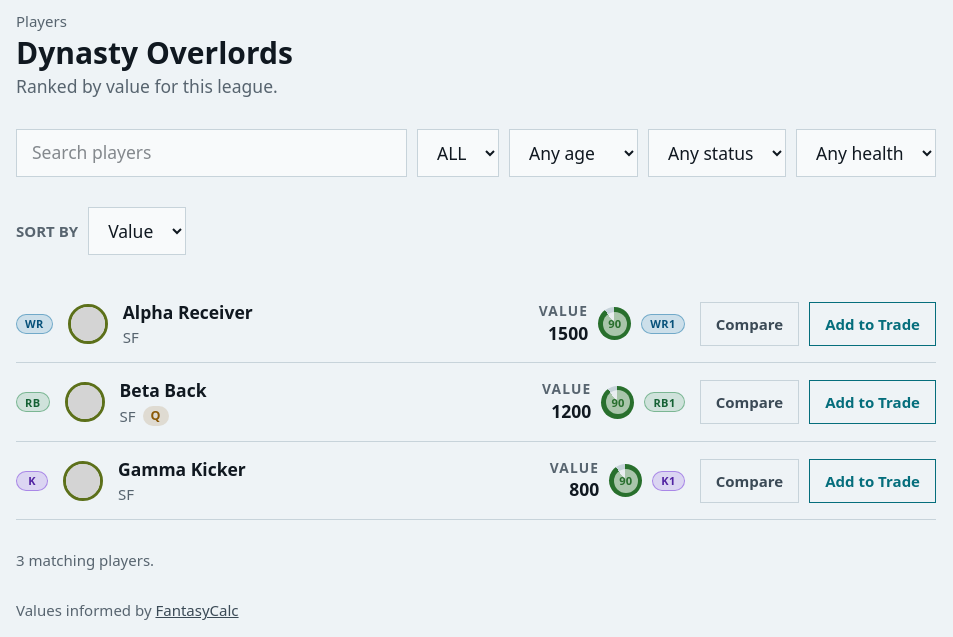
Test: PlayersContent › filters by position
Select "K" in the 1st dropdown at (458, 153), box top-left (417, 129), bottom-right (499, 177)
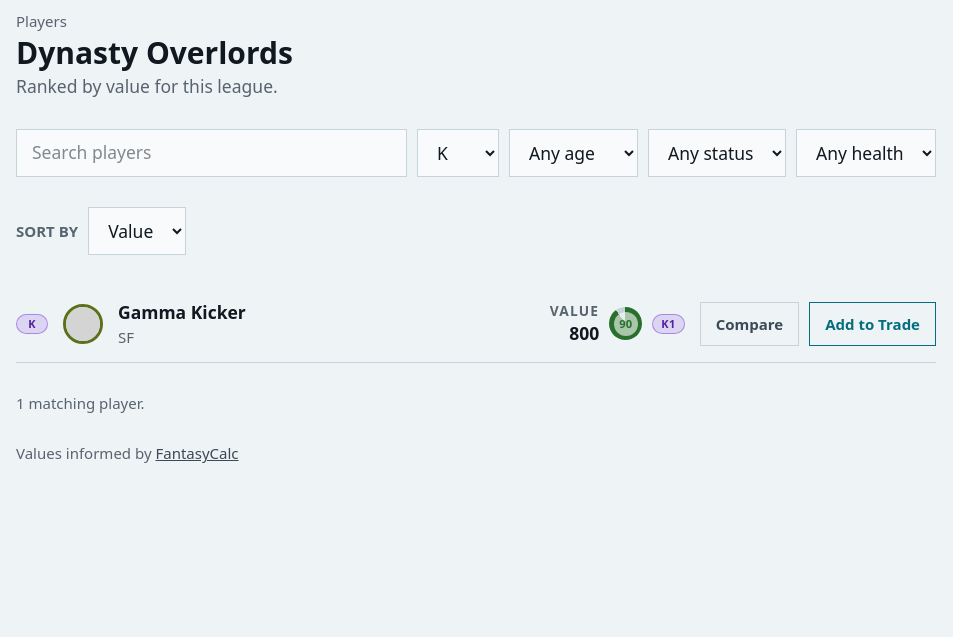
Check: the text "Gamma Kicker" is shown, box top-left (118, 300), bottom-right (246, 325)
Check: the button "Alpha Receiver" is gone
